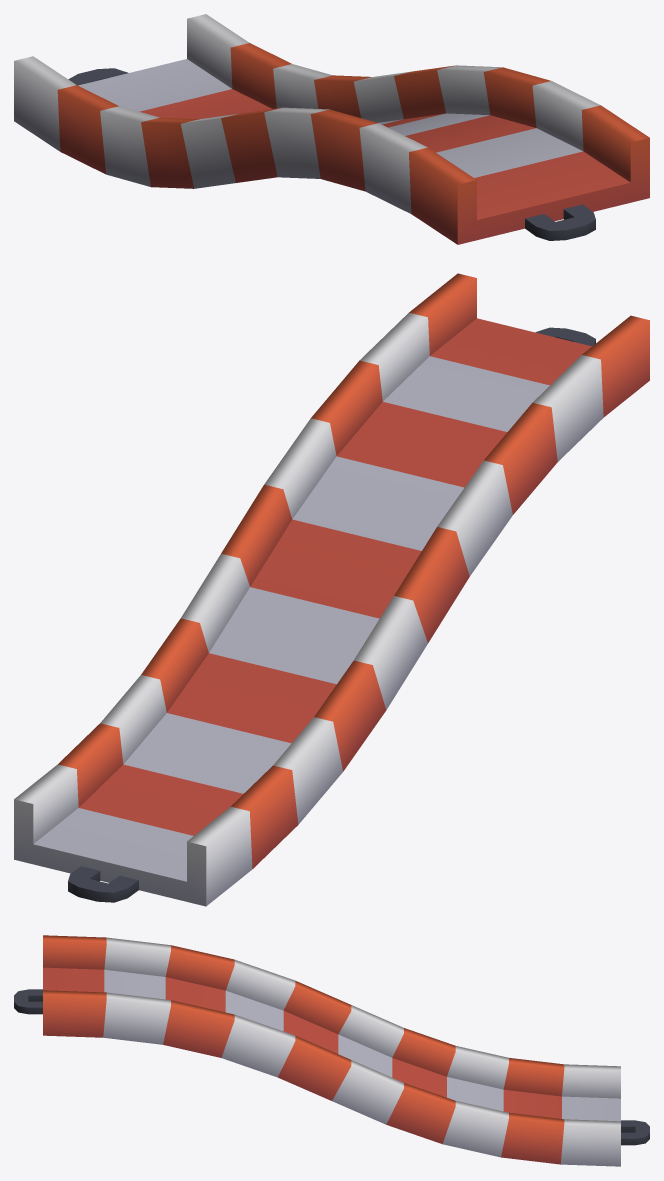
The model's file is track-striped-narrow-straight-hill-complete.glb.
The picture shows the model from 3 angles, top to bottom: view 1: azimuth 30°, elevation 25°; view 2: azimuth 150°, elevation 25°; view 3: azimuth 270°, elevation 25°; orthographic projection. The views are drawn at different scales.
Parts seen in each view (by area): view 1: track-striped-narrow-straight-hill-complete; view 2: track-striped-narrow-straight-hill-complete; view 3: track-striped-narrow-straight-hill-complete.
Part boxes in pixels (bbox=[...]): track-striped-narrow-straight-hill-complete: bbox=[14, 14, 649, 244]; track-striped-narrow-straight-hill-complete: bbox=[14, 273, 649, 906]; track-striped-narrow-straight-hill-complete: bbox=[14, 935, 649, 1166].
Bounding box in the file's own units: 1 × 1.3 × 4.4.
